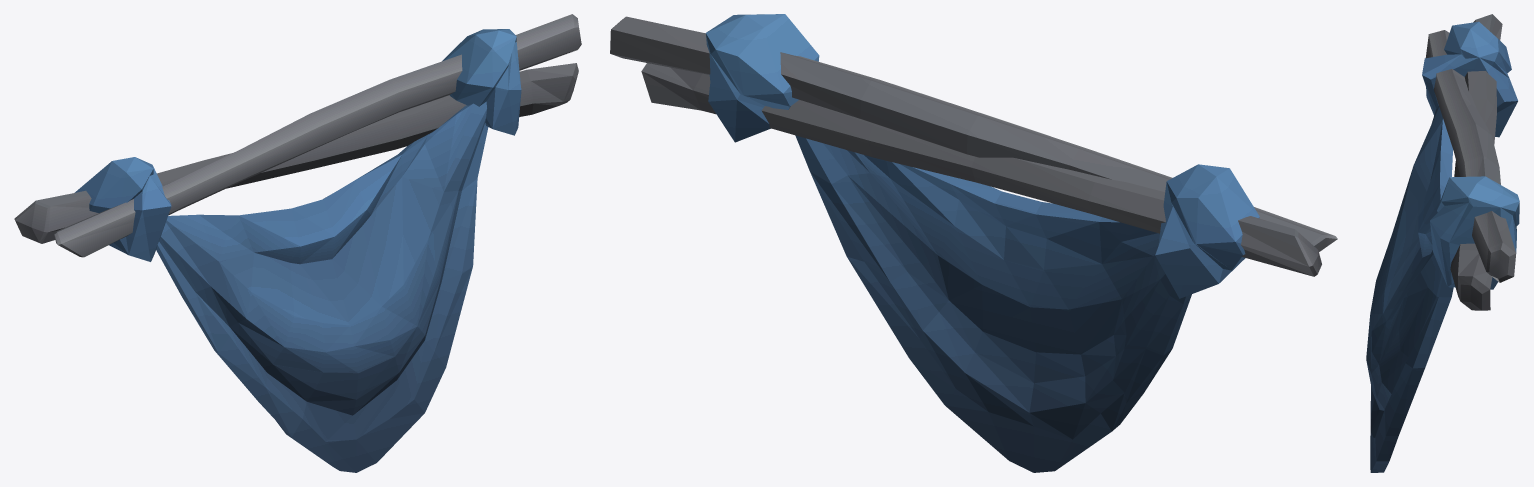
The model's file is CharSkyKid_Prop_AP10Hammock_01.glb.
3 renders of one model, left to right at view 1: azimuth 30°, elevation 25°; view 2: azimuth 150°, elevation 25°; view 3: azimuth 270°, elevation 25°, orthographic. The views are drawn at different scales.
Parts seen in each view (by area): view 1: CharSkyKid_Prop_AP10Hammock_01; view 2: CharSkyKid_Prop_AP10Hammock_01; view 3: CharSkyKid_Prop_AP10Hammock_01.
Part boxes in pixels (left/top/right/bottom): CharSkyKid_Prop_AP10Hammock_01: left=14, top=14, right=581, bottom=472; CharSkyKid_Prop_AP10Hammock_01: left=610, top=14, right=1337, bottom=472; CharSkyKid_Prop_AP10Hammock_01: left=1366, top=14, right=1519, bottom=472.
Bounding box in the file's own units: 8.67 × 5.23 × 1.89.
Materials: 1 (1 with a texture image).
